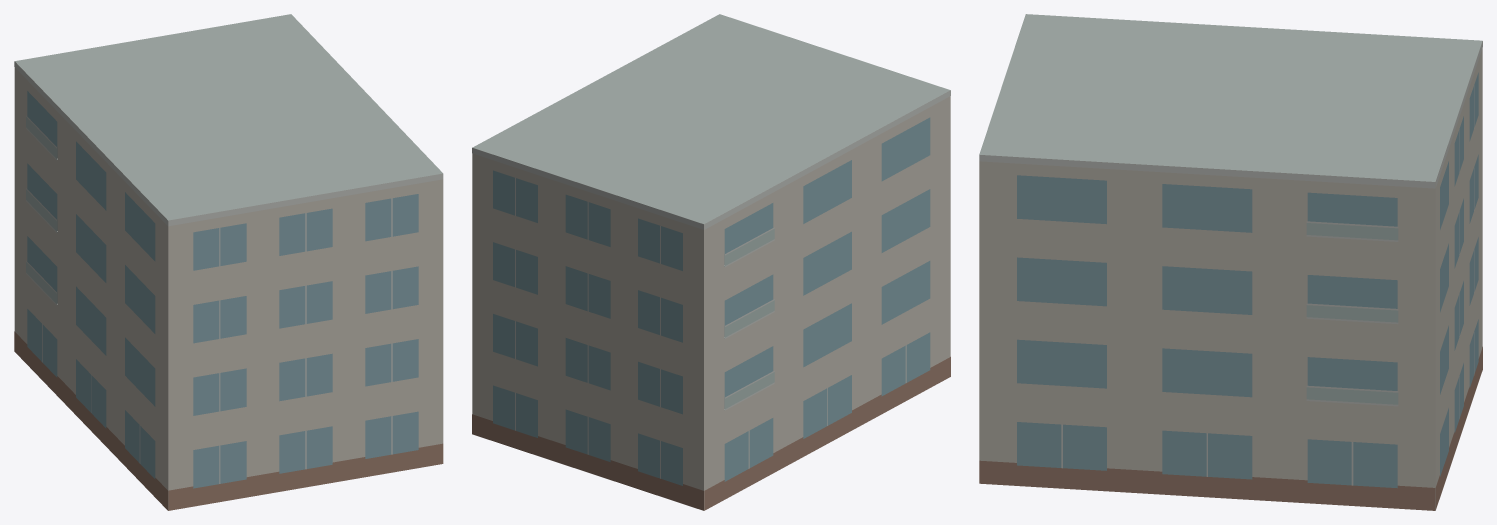
Rendered from survey-upis-32941409.glb.
3 views of the same model, side by side, from view 1: azimuth 30°, elevation 25°; view 2: azimuth 150°, elevation 25°; view 3: azimuth 270°, elevation 25° (orthographic). The views are drawn at different scales.
Visible parts, largest first — view 1: survey-upis-32941409.tmp; view 2: survey-upis-32941409.tmp; view 3: survey-upis-32941409.tmp.
Part boxes in pixels (box(x1,y1,x2,y2)): survey-upis-32941409.tmp: box(14, 14, 443, 510); survey-upis-32941409.tmp: box(472, 14, 950, 510); survey-upis-32941409.tmp: box(979, 14, 1482, 510).
Bounding box in the file's own units: 13.38 × 12.2 × 16.94.
